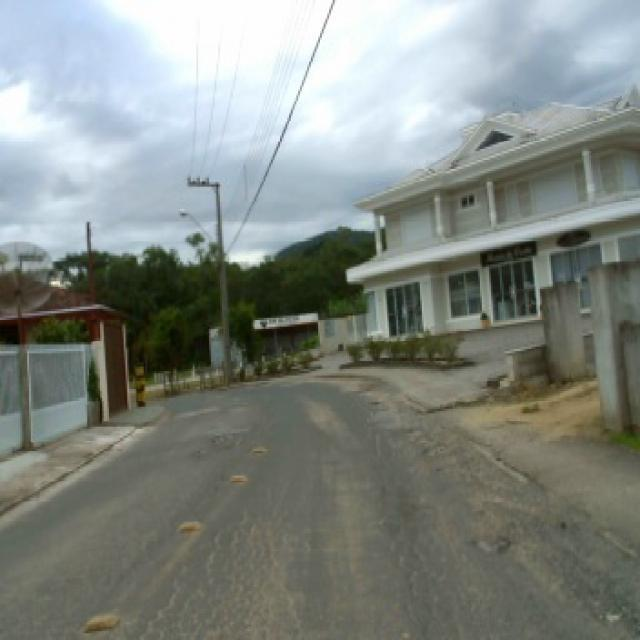Poth-hole: (133, 498, 309, 636), (400, 422, 448, 458), (468, 531, 510, 556), (78, 609, 120, 631), (170, 516, 206, 534), (594, 604, 618, 626), (226, 471, 250, 482), (208, 432, 228, 444), (249, 442, 267, 453), (364, 398, 382, 404)
